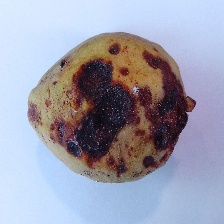guava: (48, 60, 211, 199)
